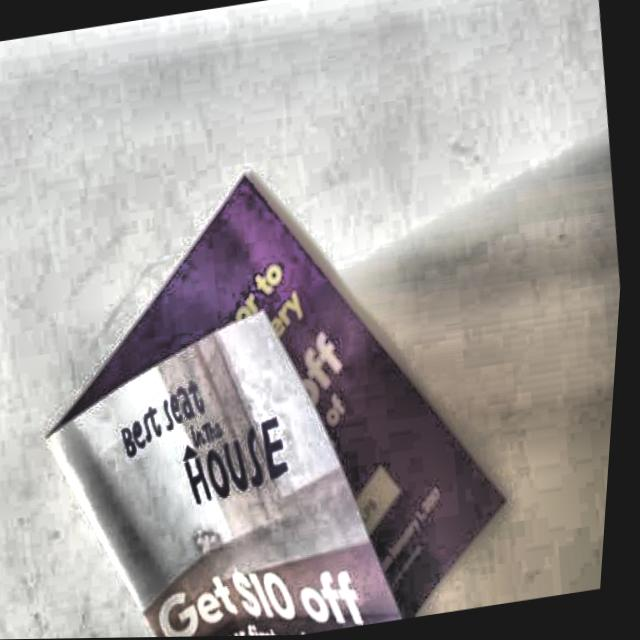Paper: (6, 138, 545, 640)
